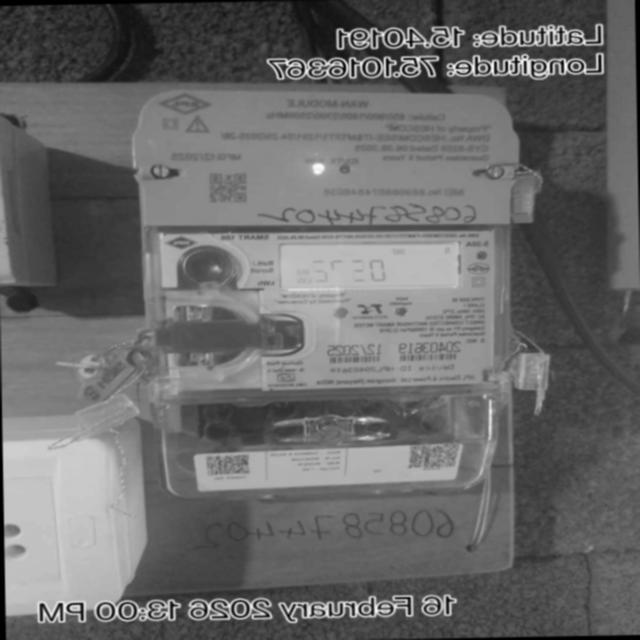meter: (137, 92, 510, 389)
